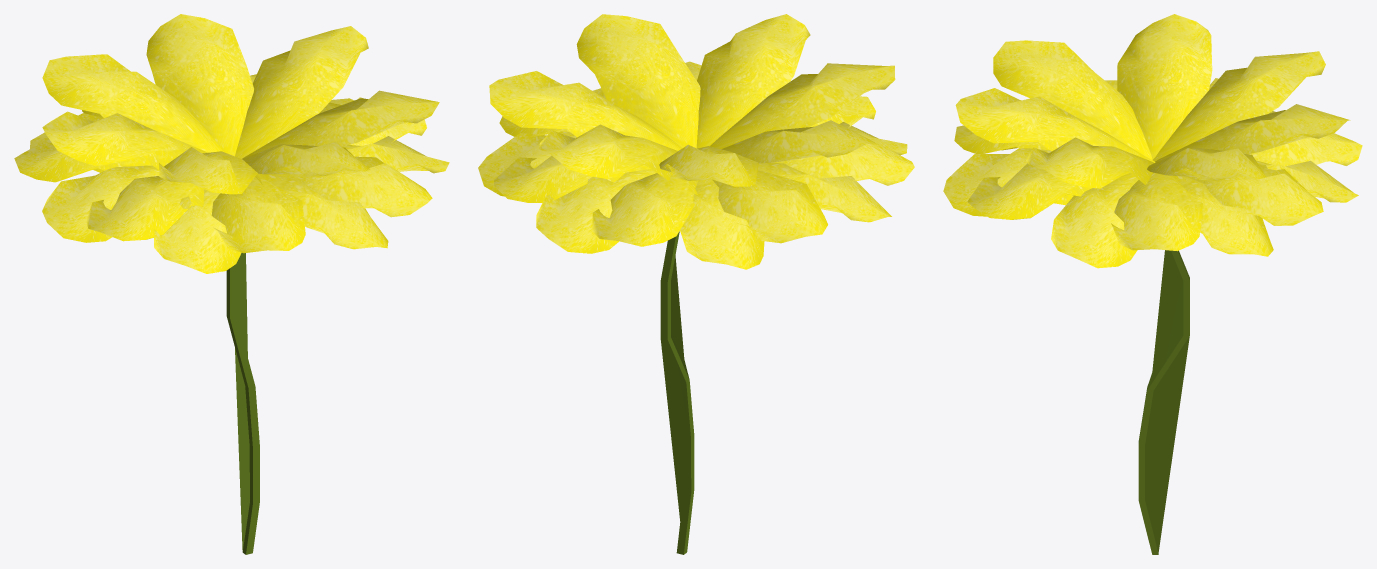
Rendered from Flower.fbx.
3 views of the same model, side by side, from view 1: azimuth 30°, elevation 25°; view 2: azimuth 150°, elevation 25°; view 3: azimuth 270°, elevation 25° (orthographic). The views are drawn at different scales.
Parts seen in each view (by area): view 1: pPlane14, pPlane8, pPlane13, pCube1, pPlane12, pPlane3, pPlane9, pPlane4, pPlane2, pPlane18, pPlane17, pPlane16 (+5 smaller); view 2: pPlane9, pPlane10, pPlane8, pPlane11, pCube1, pPlane6, pPlane5, pPlane14, pPlane20, pPlane19, pPlane12, pPlane4 (+6 smaller); view 3: pCube1, pPlane12, pPlane11, pPlane13, pPlane10, pPlane1, pPlane15, pPlane14, pPlane7, pPlane9, pPlane2, pPlane21 (+5 smaller).
Boxes of the visible parts, left/top/right/bottom form: pPlane14: left=146, top=14, right=253, bottom=156; pPlane8: left=235, top=26, right=368, bottom=158; pPlane13: left=42, top=54, right=223, bottom=152; pCube1: left=226, top=253, right=259, bottom=554; pPlane12: left=42, top=111, right=207, bottom=169; pPlane3: left=211, top=176, right=305, bottom=253; pPlane9: left=242, top=90, right=439, bottom=158; pPlane4: left=86, top=176, right=204, bottom=241; pPlane2: left=274, top=156, right=432, bottom=217; pPlane18: left=42, top=165, right=159, bottom=242; pPlane17: left=154, top=189, right=241, bottom=273; pPlane16: left=258, top=173, right=388, bottom=249; pPlane9: left=576, top=14, right=700, bottom=148; pPlane10: left=696, top=14, right=810, bottom=148; pPlane8: left=489, top=71, right=682, bottom=150; pPlane11: left=710, top=63, right=895, bottom=148; pCube1: left=660, top=231, right=694, bottom=554; pPlane6: left=592, top=173, right=698, bottom=246; pPlane5: left=712, top=170, right=827, bottom=243; pPlane14: left=539, top=124, right=677, bottom=180; pPlane20: left=536, top=169, right=656, bottom=253; pPlane19: left=676, top=179, right=764, bottom=269; pPlane12: left=721, top=120, right=876, bottom=163; pPlane4: left=771, top=134, right=914, bottom=185; pCube1: left=1138, top=250, right=1189, bottom=554; pPlane12: left=1117, top=14, right=1212, bottom=159; pPlane11: left=993, top=40, right=1152, bottom=159; pPlane13: left=1152, top=51, right=1325, bottom=161; pPlane10: left=955, top=88, right=1155, bottom=162; pPlane1: left=1111, top=172, right=1202, bottom=251; pPlane15: left=1051, top=172, right=1138, bottom=268; pPlane14: left=1155, top=104, right=1350, bottom=162; pPlane7: left=1186, top=164, right=1323, bottom=225; pPlane9: left=1026, top=137, right=1153, bottom=188; pPlane2: left=967, top=163, right=1129, bottom=219; pPlane21: left=1172, top=175, right=1273, bottom=256.
Size of the model in its own units: 20.47 by 23.8 by 20.21.
1 material, 1 textured.
